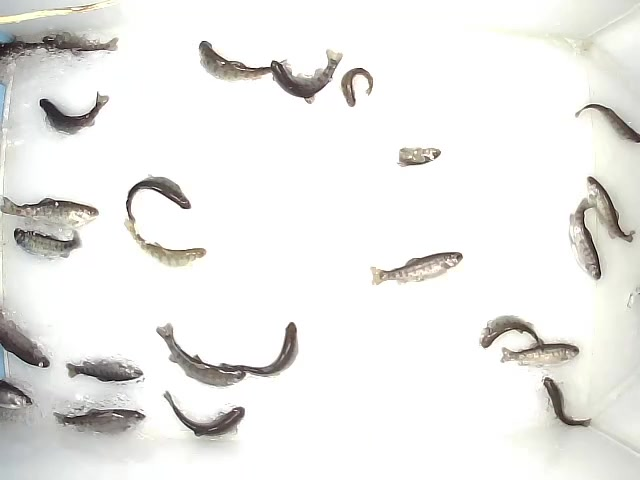fish: (156, 324, 249, 388), (201, 322, 301, 377), (198, 37, 291, 87), (268, 47, 345, 104), (122, 218, 208, 268), (162, 391, 248, 438), (585, 172, 638, 246), (567, 193, 607, 282), (370, 250, 466, 287), (125, 172, 192, 225), (36, 90, 110, 136), (1, 193, 100, 227), (541, 375, 593, 429), (48, 407, 146, 434), (8, 225, 82, 260), (65, 354, 146, 385), (500, 341, 580, 371), (478, 314, 544, 350), (43, 34, 120, 59), (338, 65, 375, 108), (388, 145, 441, 167)
